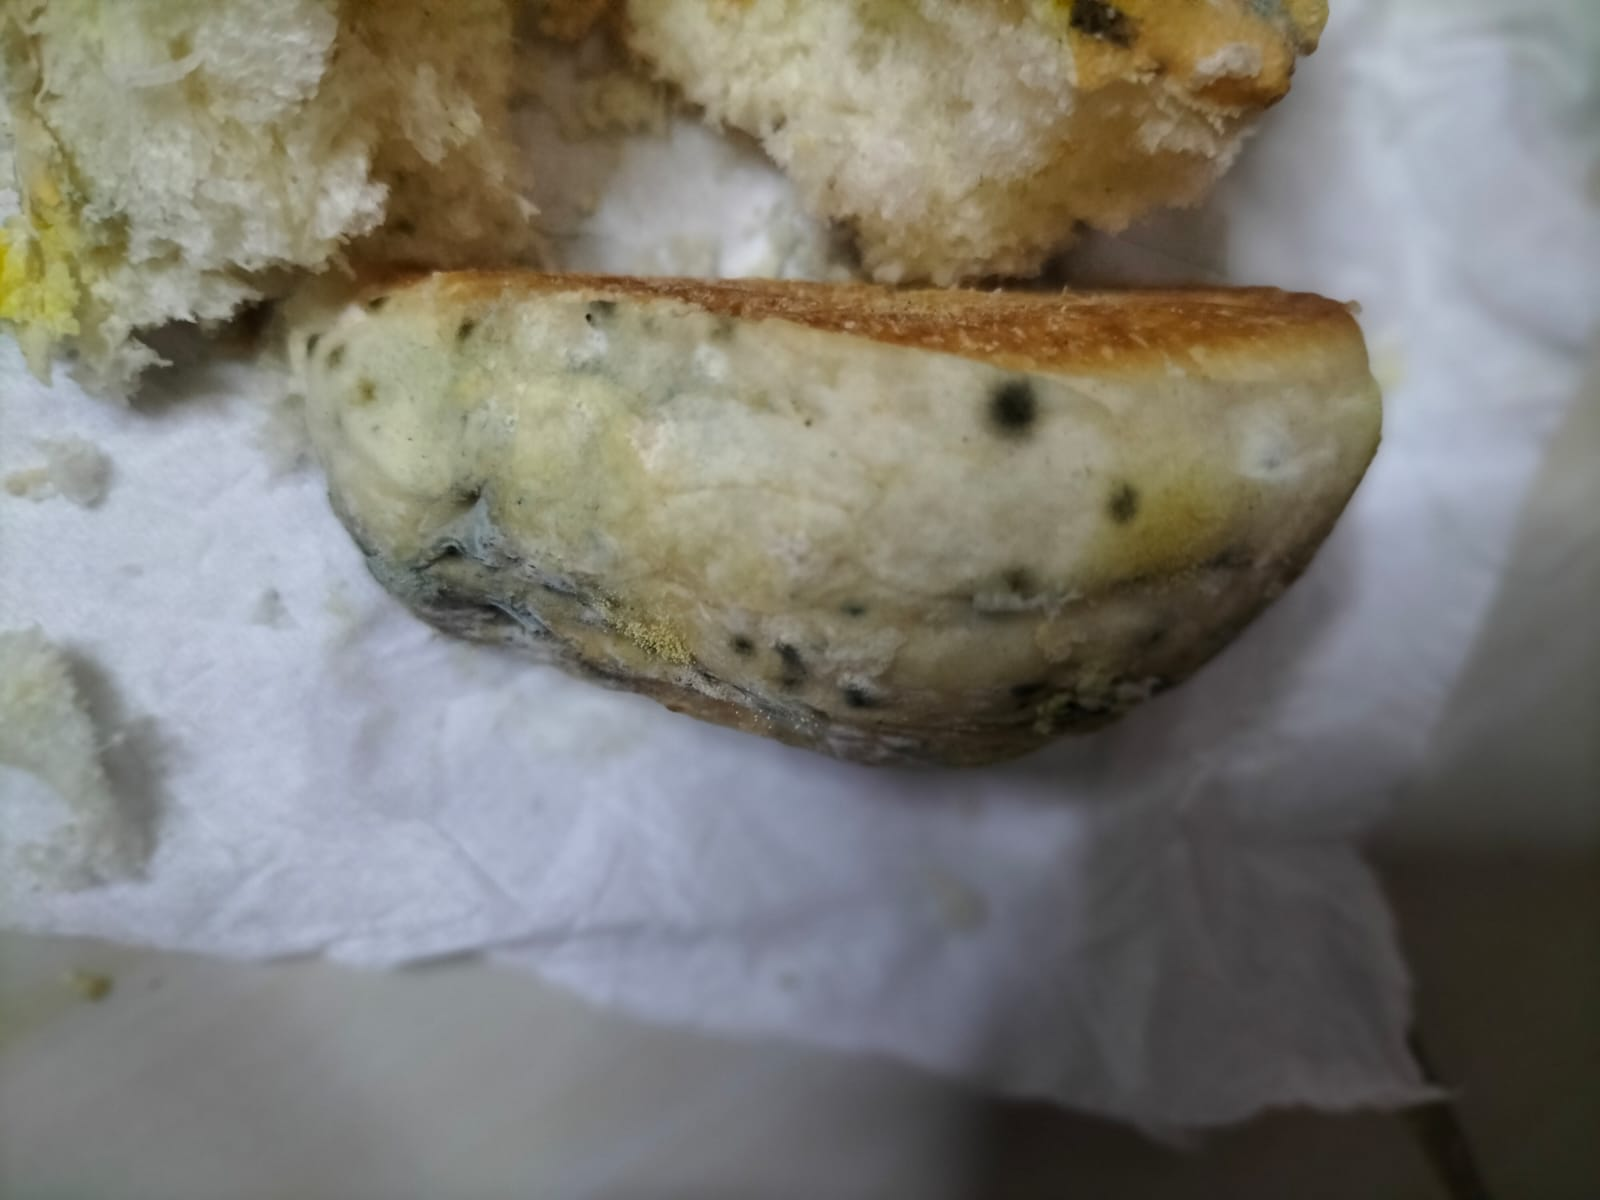mold_bread: (412, 442, 619, 671), (713, 563, 917, 718), (294, 289, 401, 412), (569, 289, 746, 361), (960, 371, 1054, 449), (978, 560, 1054, 625), (1095, 474, 1151, 539), (437, 308, 496, 361)
